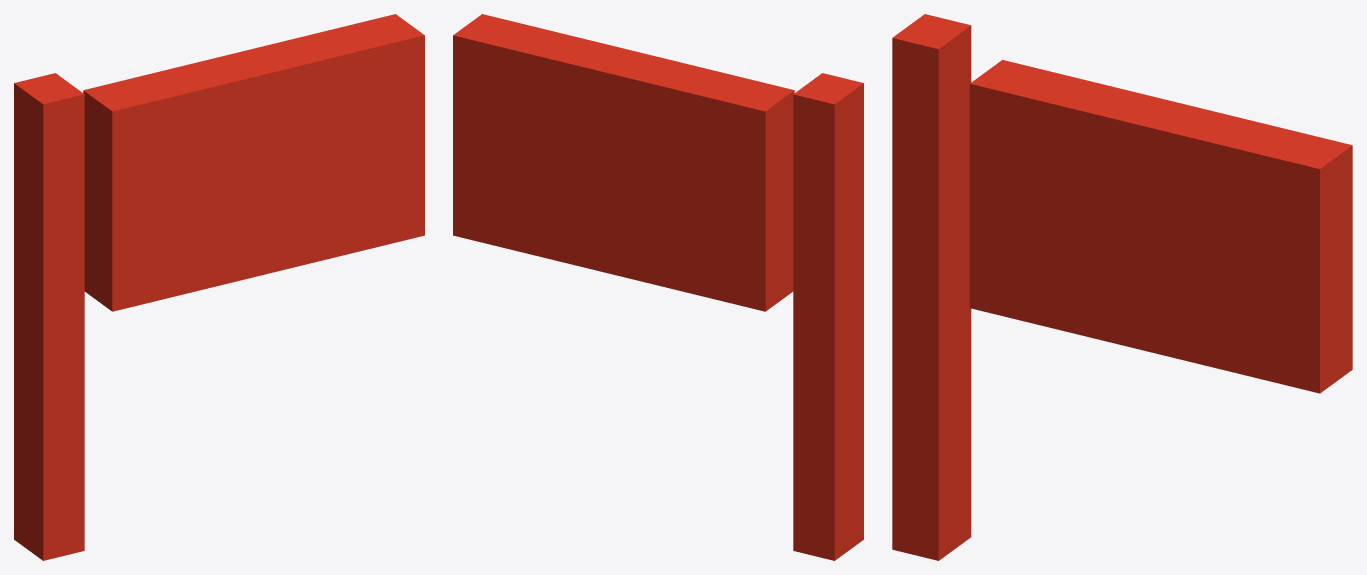
The model's file is Icon_Flag_02.fbx.
The picture shows the model from 3 angles, left to right: view 1: azimuth 30°, elevation 25°; view 2: azimuth 150°, elevation 25°; view 3: azimuth 330°, elevation 25°; orthographic projection. The views are drawn at different scales.
Visible parts, largest first — view 1: Icon_Flag_02; view 2: Icon_Flag_02; view 3: Icon_Flag_02.
Part boxes in pixels (left/top/right/bottom): Icon_Flag_02: left=14, top=14, right=424, bottom=560; Icon_Flag_02: left=453, top=14, right=863, bottom=560; Icon_Flag_02: left=892, top=14, right=1352, bottom=560.
Size of the model in its own units: 62.28 by 71.19 by 8.25.
